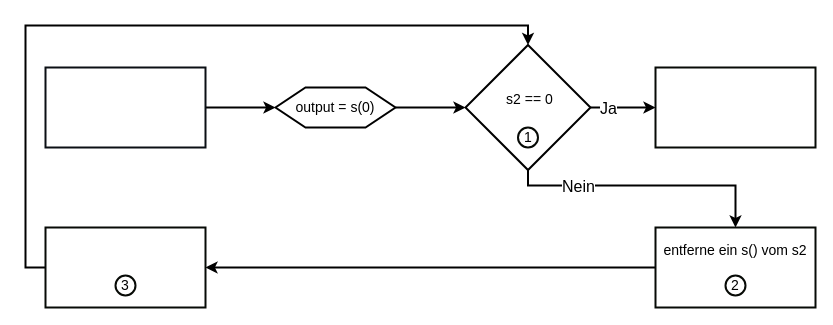
Image size: 833x325. Some labels were removed from this diagram. Here are the shapes that lost their labels. From the top down, the box of each, then its label:
(44, 66, 206, 148): power(s1, s2, output)
(654, 66, 816, 148): gebe output zurück
(44, 226, 206, 308): output = mul(output, s1)
